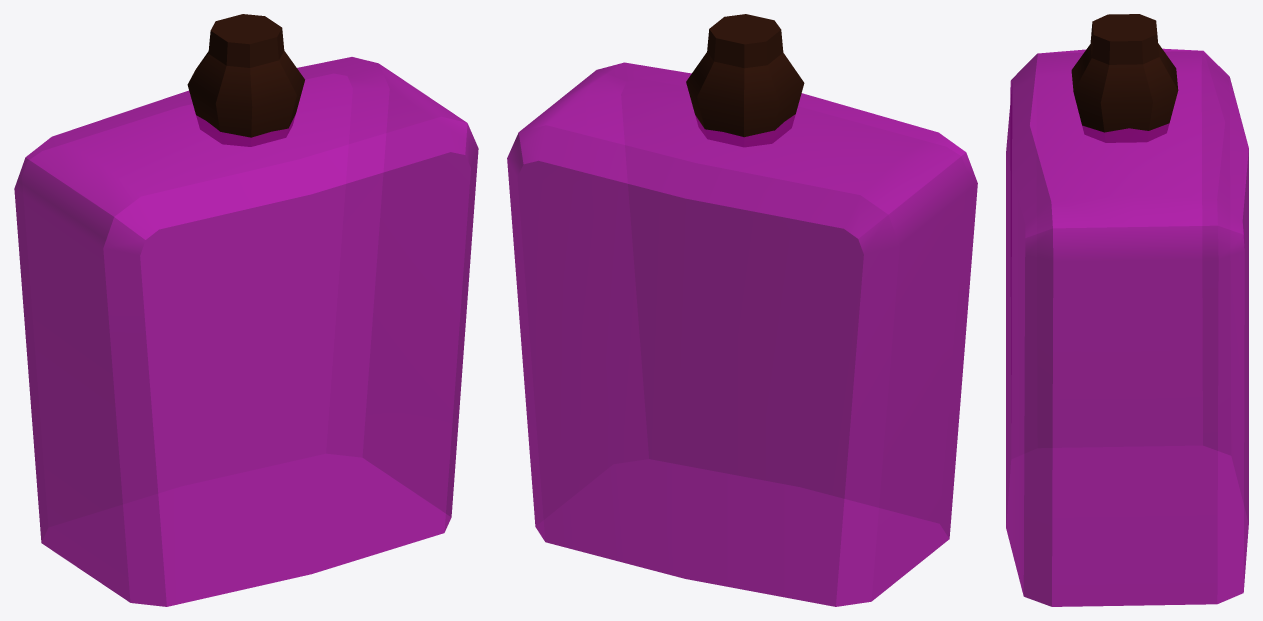
File: Elxir2.fbx
The picture shows the model from 3 angles, left to right: view 1: azimuth 30°, elevation 25°; view 2: azimuth 150°, elevation 25°; view 3: azimuth 270°, elevation 25°; orthographic projection.
Visible parts, largest first — view 1: Urn_Whisk; view 2: Urn_Whisk; view 3: Urn_Whisk.
Boxes of the visible parts, left/top/right/bottom form: Urn_Whisk: left=14, top=14, right=478, bottom=606; Urn_Whisk: left=507, top=14, right=977, bottom=606; Urn_Whisk: left=1006, top=14, right=1248, bottom=606.
Bounding box in the file's own units: 1.01 × 1.25 × 0.5526.
